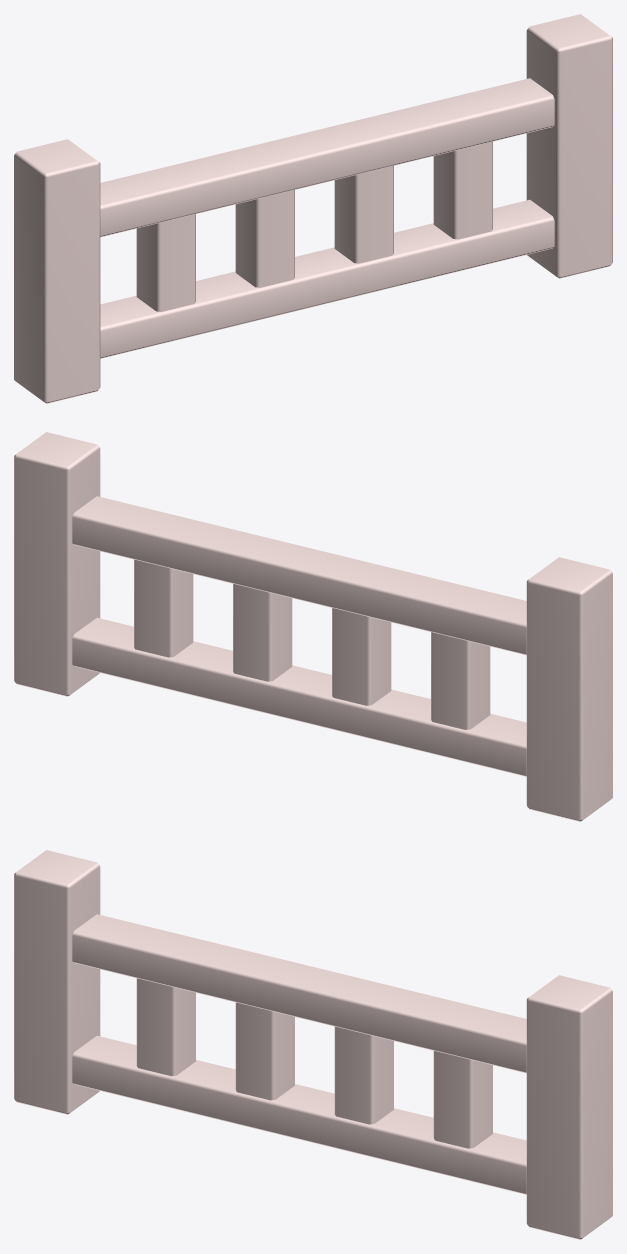
Rendered from Town_17_Fence_1.glb.
3 renders of one model, top to bottom at view 1: azimuth 30°, elevation 25°; view 2: azimuth 150°, elevation 25°; view 3: azimuth 330°, elevation 25°, orthographic.
Parts seen in each view (by area): view 1: Town_17_Fence_1; view 2: Town_17_Fence_1; view 3: Town_17_Fence_1.
Boxes of the visible parts, bbox=[...] form: Town_17_Fence_1: bbox=[14, 14, 612, 403]; Town_17_Fence_1: bbox=[14, 432, 612, 821]; Town_17_Fence_1: bbox=[14, 850, 612, 1239].
Size of the model in its own units: 2.36 by 0.9139 by 0.2358.
Materials: 1 (1 with a texture image).
